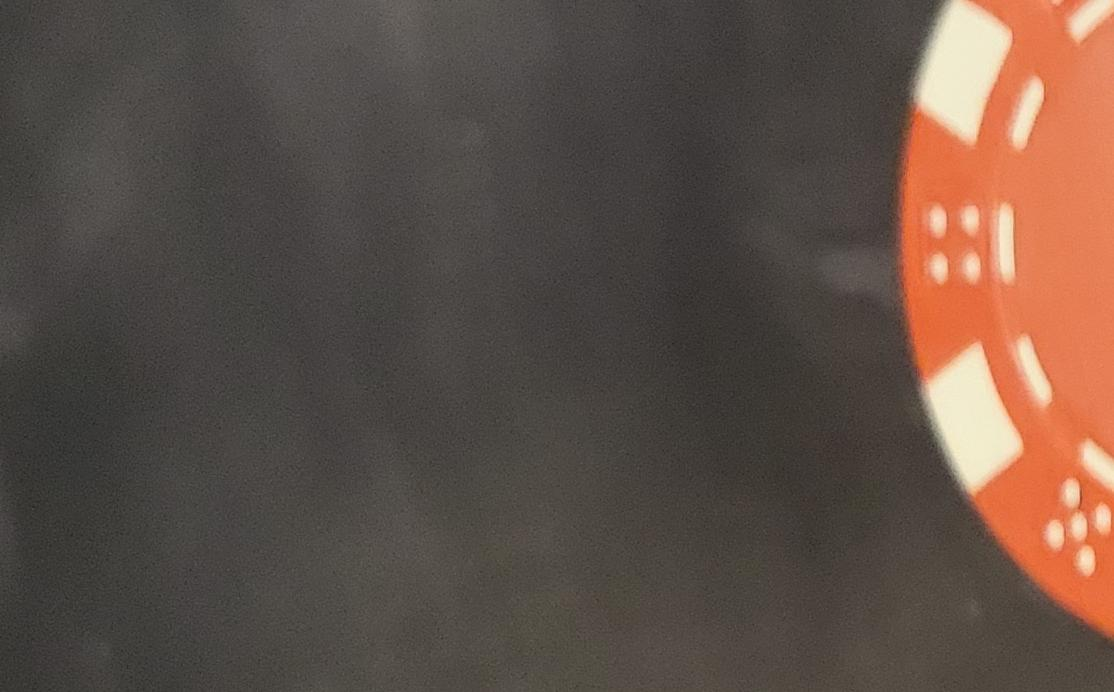Chip: (1, 417, 747, 692)
